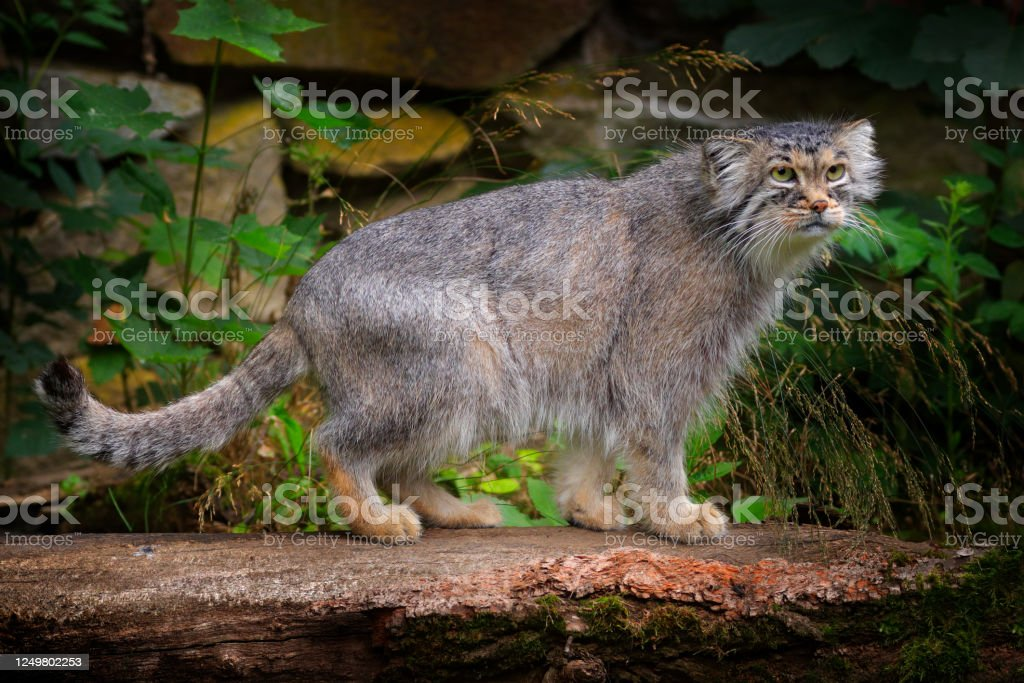cat: (29, 98, 902, 563)
